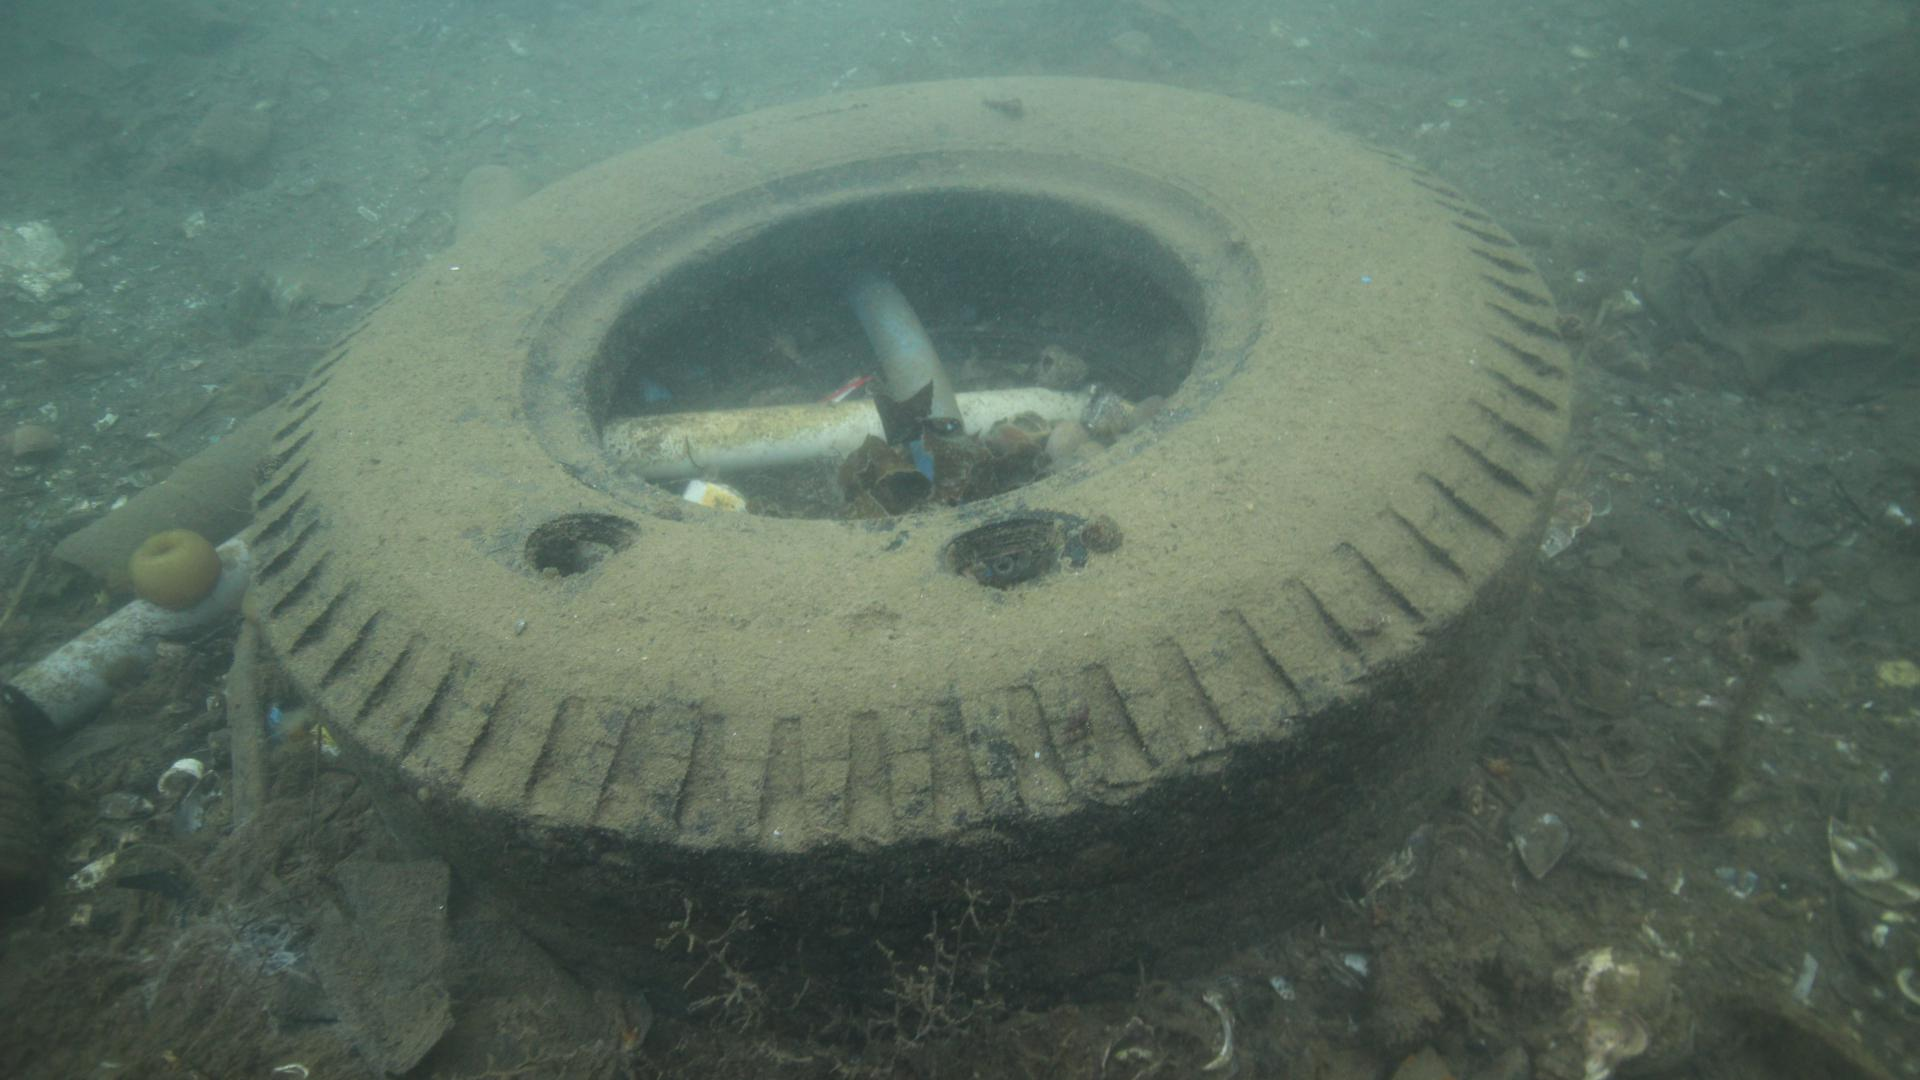tire: (243, 73, 1576, 1040)
